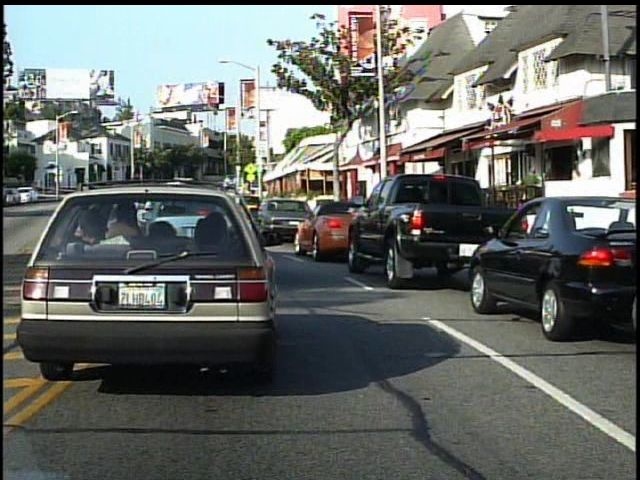person: (519, 161, 545, 223)
